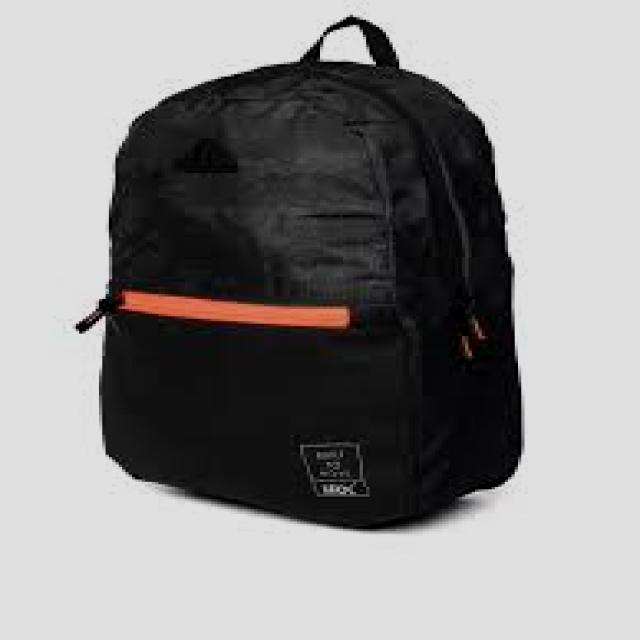backpack: (74, 14, 526, 530)
